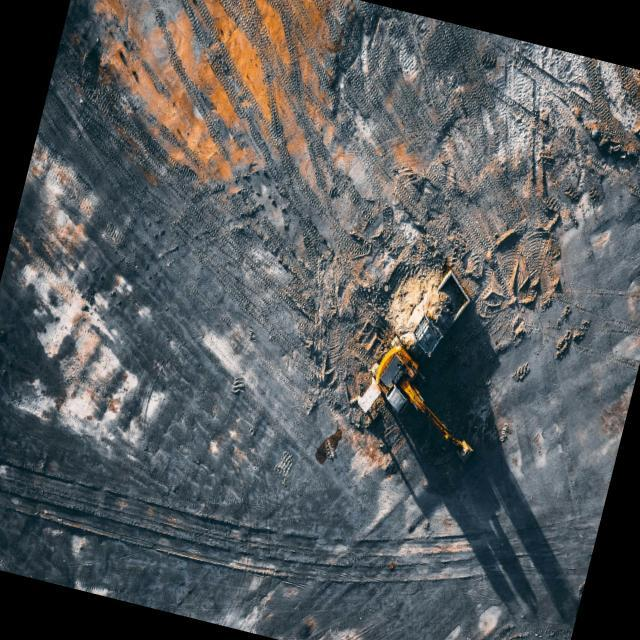excavator: (370, 335, 472, 462)
